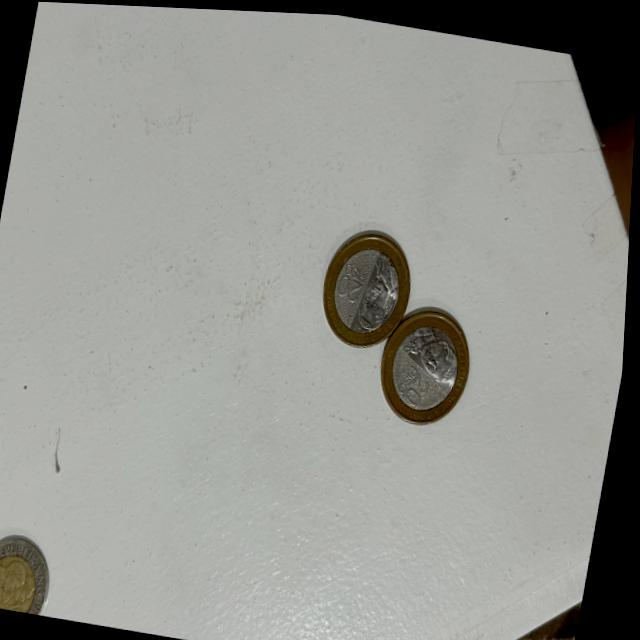20_New_Front: (392, 361, 437, 410), (334, 254, 368, 304)
